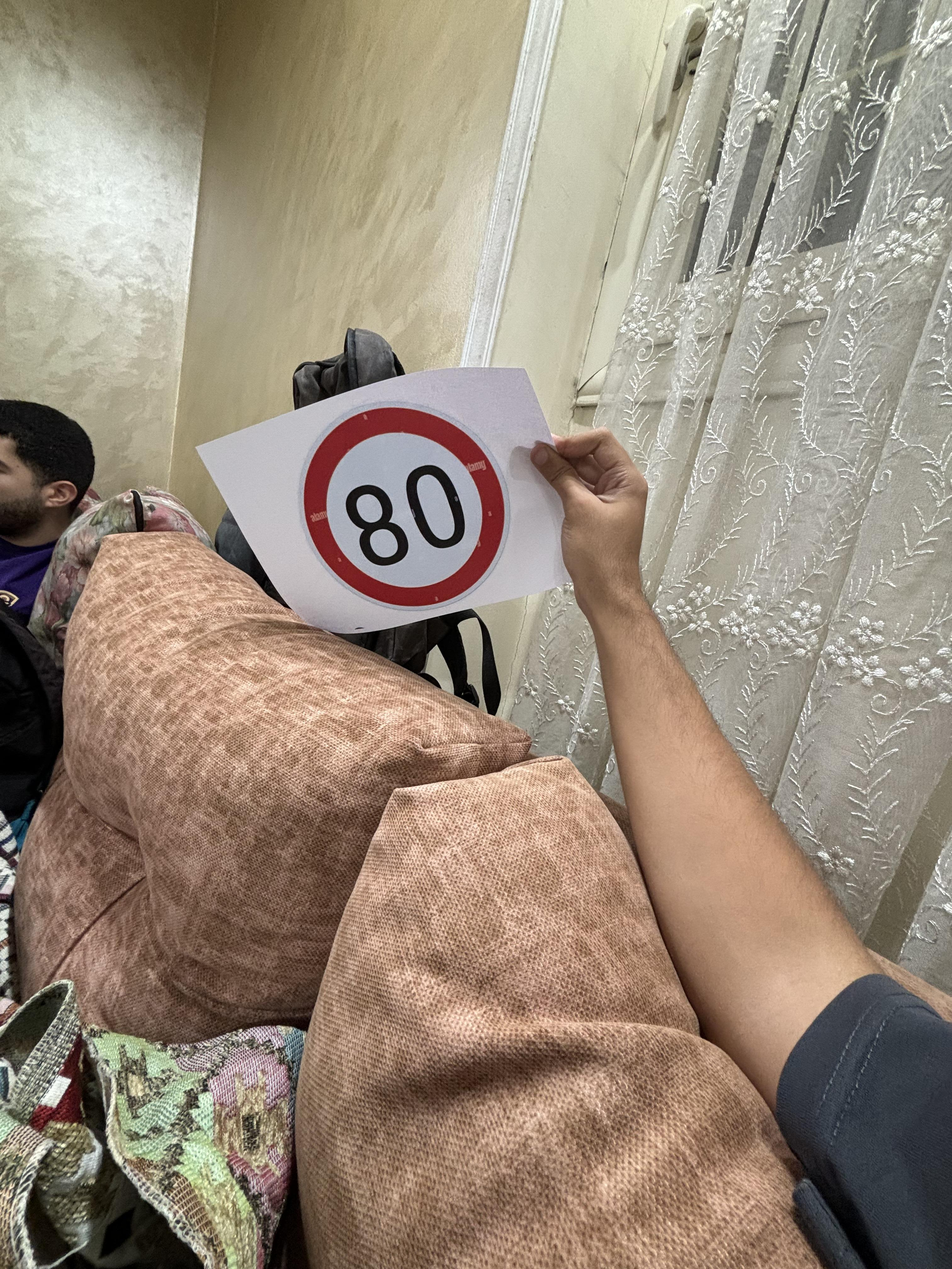80-Speed: (300, 402, 508, 613)
